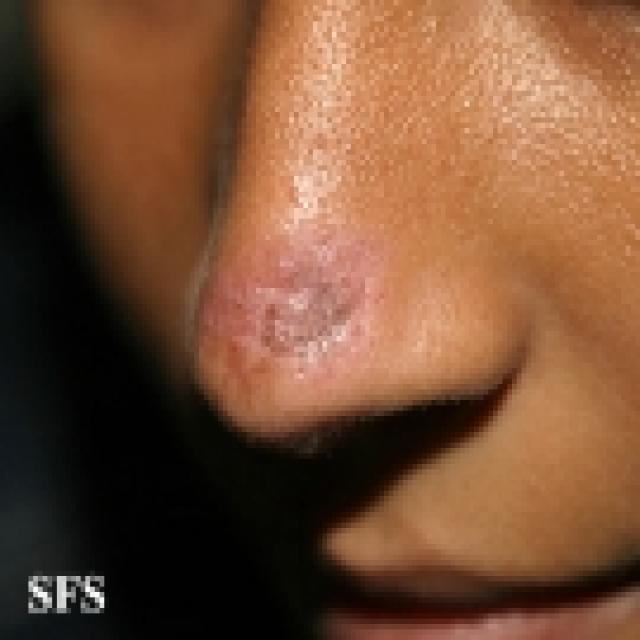lupus: (175, 161, 404, 416)
